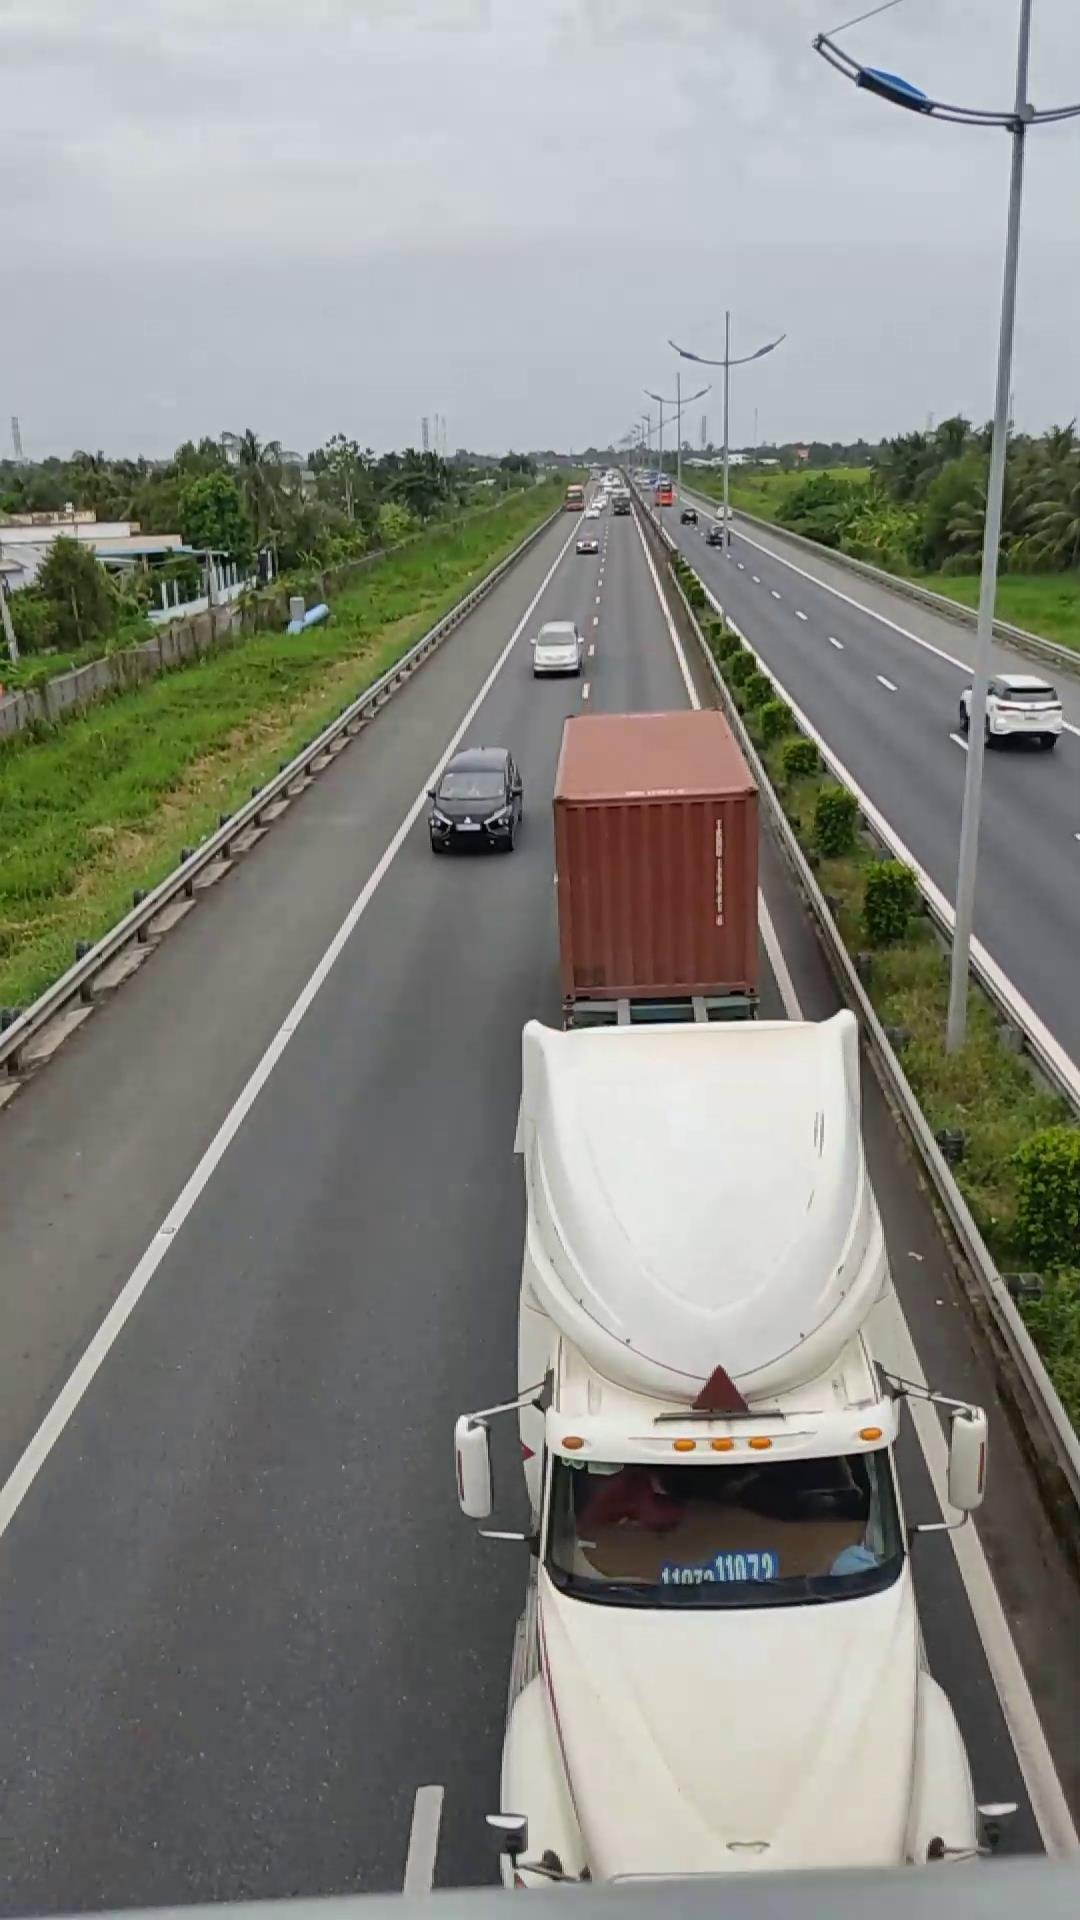car: (425, 744, 526, 852), (960, 669, 1061, 749)
container: (468, 706, 945, 1871)
